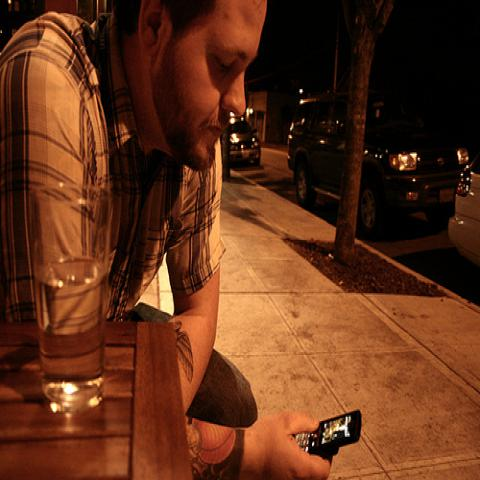car: (446, 148, 479, 269), (230, 118, 262, 166)
truck: (287, 82, 464, 238)
